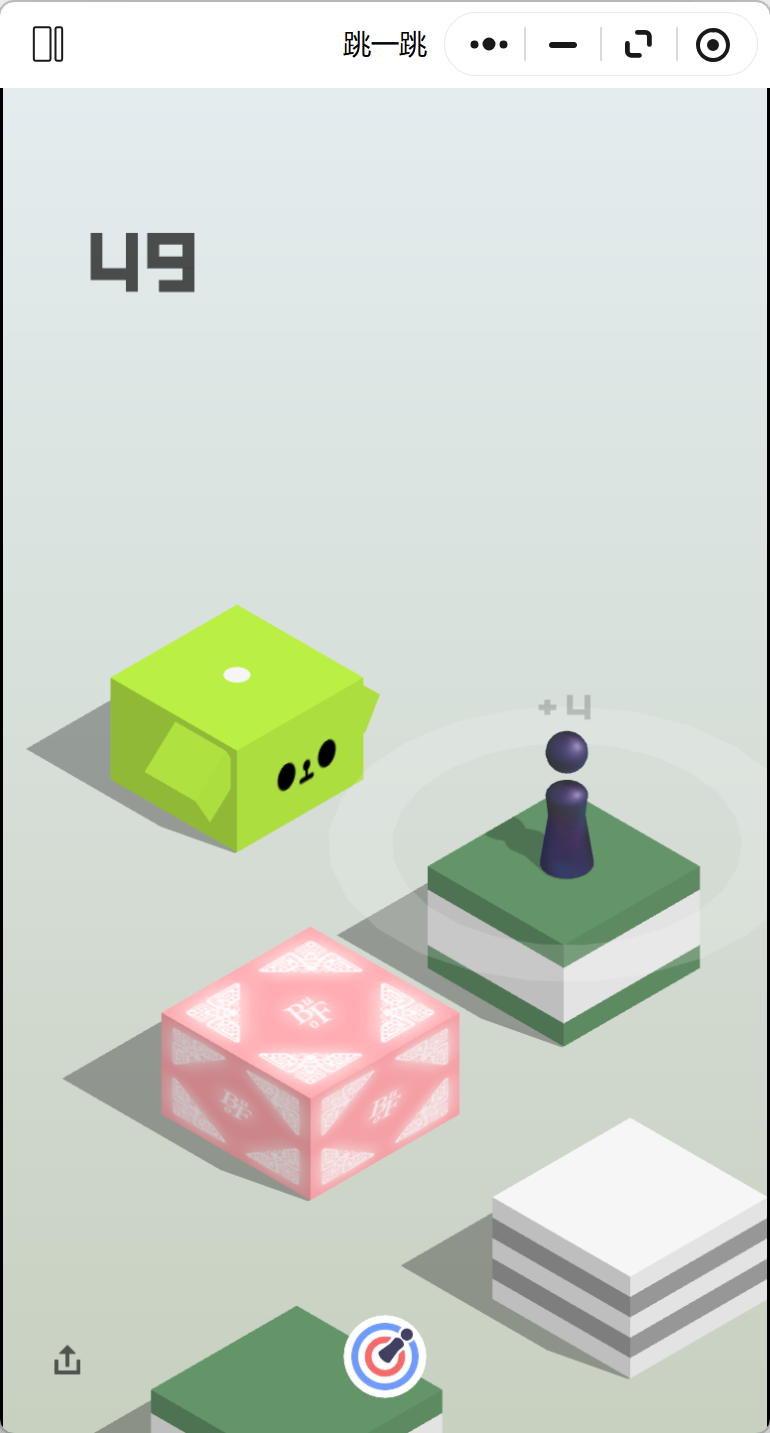piece: (540, 728, 594, 885)
platform: (112, 598, 368, 852)
